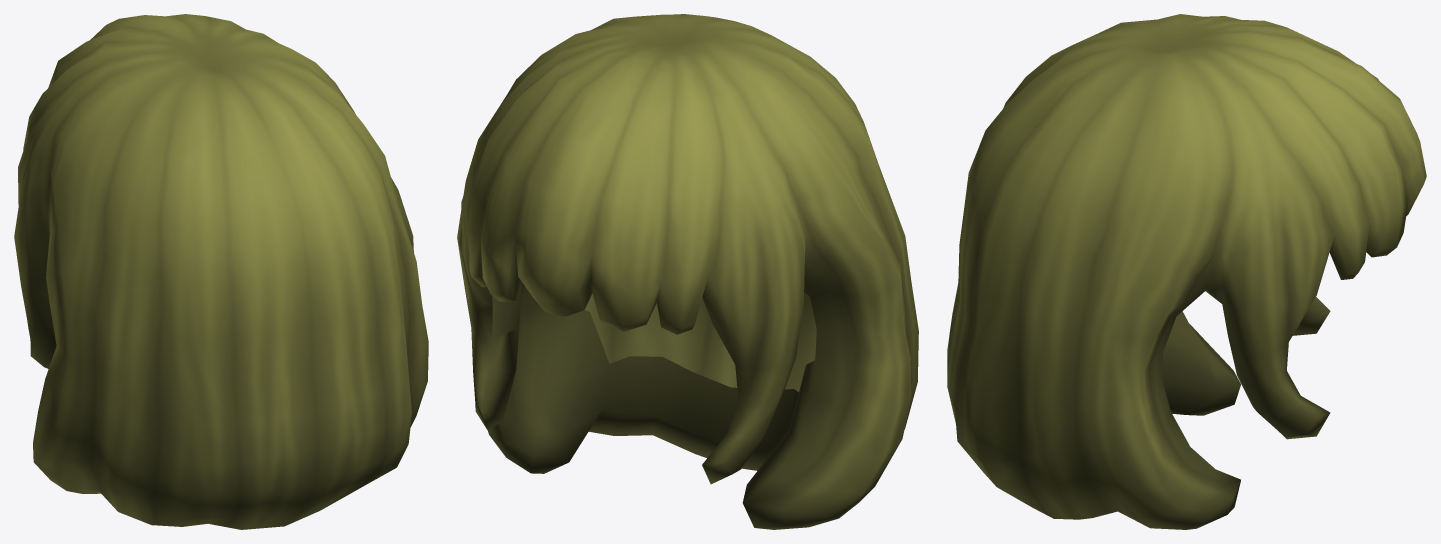
The model's file is Hair_Female_001_textured_yellow.glb.
The picture shows the model from 3 angles, left to right: view 1: azimuth 30°, elevation 25°; view 2: azimuth 150°, elevation 25°; view 3: azimuth 270°, elevation 25°; orthographic projection. The views are drawn at different scales.
Visible parts, largest first — view 1: Hair_Female_001; view 2: Hair_Female_001; view 3: Hair_Female_001.
Part boxes in pixels (x1,y1,x2,y2): Hair_Female_001: (14,14,428,529); Hair_Female_001: (457,14,918,529); Hair_Female_001: (947,14,1426,529).
Bounding box in the file's own units: 0.2205 × 0.2446 × 0.236.
1 material, 1 textured.
